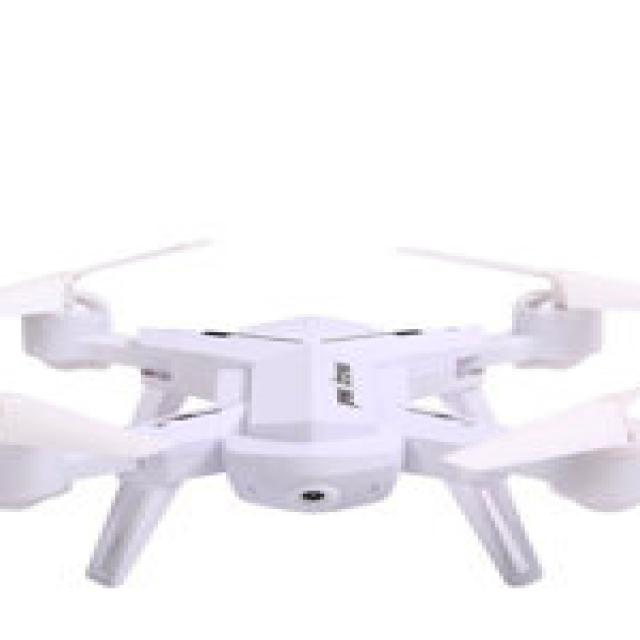drone: (0, 232, 640, 597)
